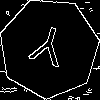Y: (24, 23, 70, 77)
